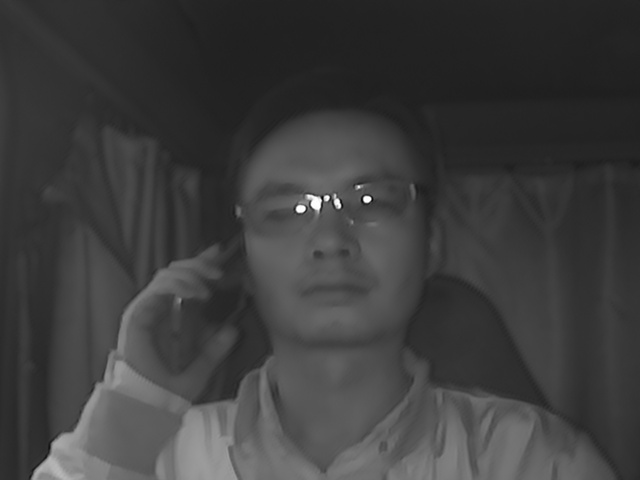hand: (123, 245, 238, 397)
